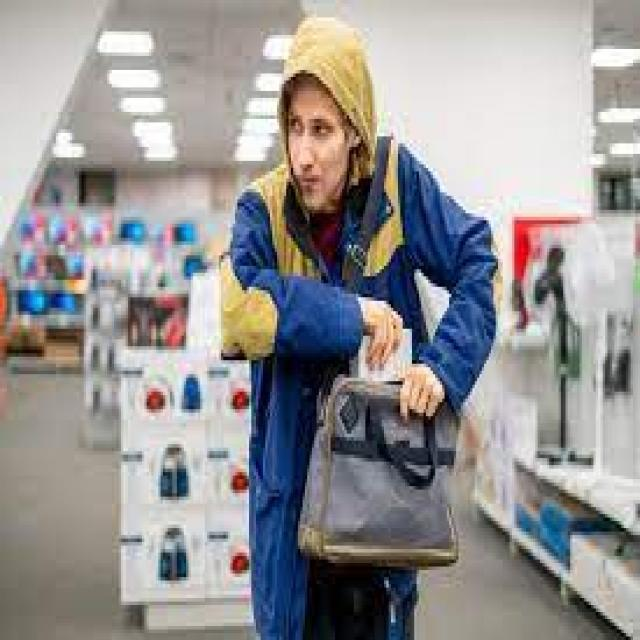Shoplifting: (218, 0, 507, 640)
